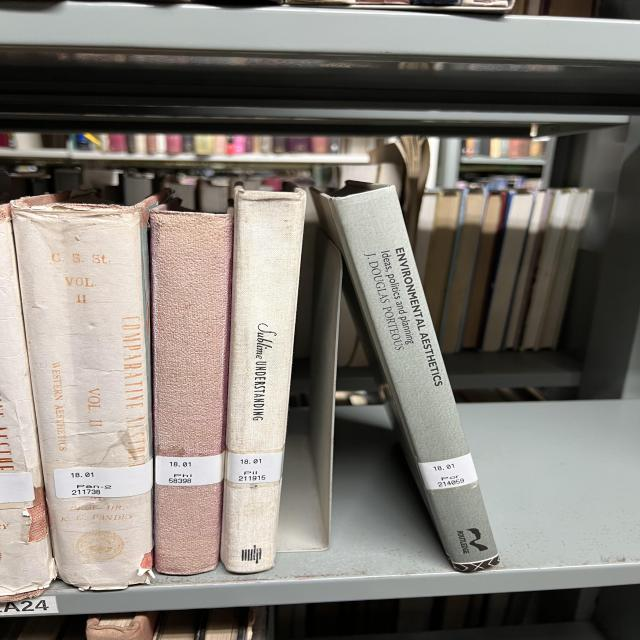Book: (312, 181, 500, 571), (10, 192, 167, 590), (220, 190, 305, 574), (150, 200, 233, 575)
Label: (53, 459, 153, 499), (155, 452, 225, 486), (418, 452, 478, 490), (227, 451, 283, 484)
